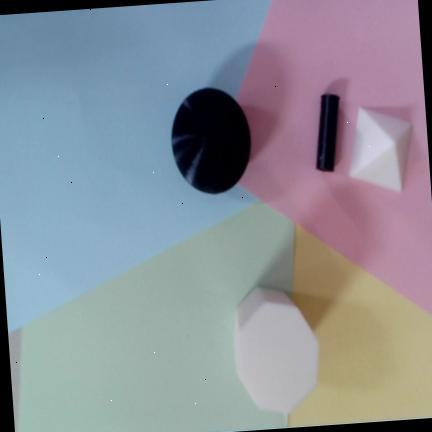Cilindro: (316, 92, 338, 170)
Esfera: (171, 87, 250, 192)
Piramide: (348, 107, 411, 191)
Prisma_hexagonal: (234, 286, 318, 412)
